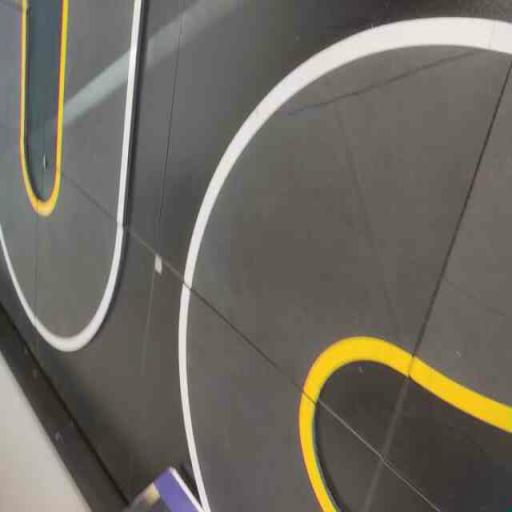left: (172, 7, 511, 459)
